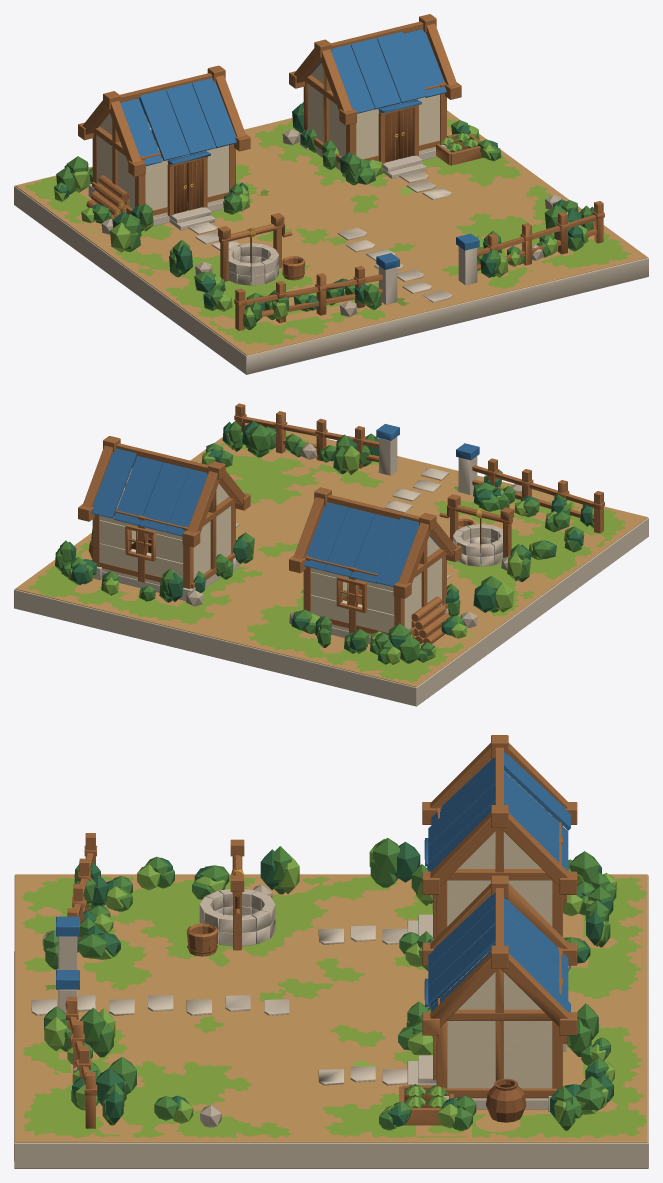
Rendered from city-2-lod0-af21565548e4.glb.
3 renders of one model, top to bottom at view 1: azimuth 30°, elevation 25°; view 2: azimuth 150°, elevation 25°; view 3: azimuth 270°, elevation 25°, orthographic. The views are drawn at different scales.
Visible parts, largest first — view 1: SM_CT2_V4_Batch_1.001, SM_CT2_V4_Batch_38.001, SM_CT2_V4_Batch_0.001, SM_CT2_V4_Batch_51.001, SM_CT2_V4_Batch_37.001, SM_CT2_V4_Batch_44.001, SM_CT2_V4_Batch_4.001, SM_CT2_V4_Batch_45.001, SM_CT2_V4_Batch_46.001, SM_CT2_V4_Batch_7.001, SM_CT2_V4_Batch_47.001; view 2: SM_CT2_V4_Batch_1.001, SM_CT2_V4_Batch_38.001, SM_CT2_V4_Batch_0.001, SM_CT2_V4_Batch_51.001, SM_CT2_V4_Batch_37.001, SM_CT2_V4_Batch_44.001, SM_CT2_V4_Batch_4.001, SM_CT2_V4_Batch_46.001, SM_CT2_V4_Batch_45.001, SM_CT2_V4_Batch_47.001; view 3: SM_CT2_V4_Batch_1.001, SM_CT2_V4_Batch_51.001, SM_CT2_V4_Batch_0.001, SM_CT2_V4_Batch_38.001, SM_CT2_V4_Batch_37.001, SM_CT2_V4_Batch_44.001, SM_CT2_V4_Batch_4.001, SM_CT2_V4_Batch_45.001, SM_CT2_V4_Batch_46.001, SM_CT2_V4_Batch_41.001, SM_CT2_V4_Batch_47.001.
Part boxes in pixels (left/top/right/bottom): SM_CT2_V4_Batch_1.001: left=15, top=110, right=647, bottom=355; SM_CT2_V4_Batch_38.001: left=78, top=14, right=604, bottom=330; SM_CT2_V4_Batch_0.001: left=14, top=132, right=648, bottom=374; SM_CT2_V4_Batch_51.001: left=25, top=115, right=631, bottom=345; SM_CT2_V4_Batch_37.001: left=120, top=29, right=479, bottom=269; SM_CT2_V4_Batch_44.001: left=54, top=102, right=593, bottom=330; SM_CT2_V4_Batch_4.001: left=97, top=63, right=439, bottom=218; SM_CT2_V4_Batch_45.001: left=54, top=126, right=593, bottom=324; SM_CT2_V4_Batch_46.001: left=58, top=104, right=593, bottom=310; SM_CT2_V4_Batch_7.001: left=115, top=108, right=468, bottom=278; SM_CT2_V4_Batch_47.001: left=101, top=129, right=561, bottom=317; SM_CT2_V4_Batch_1.001: left=15, top=423, right=647, bottom=687; SM_CT2_V4_Batch_38.001: left=78, top=403, right=604, bottom=643; SM_CT2_V4_Batch_0.001: left=14, top=437, right=648, bottom=706; SM_CT2_V4_Batch_51.001: left=28, top=432, right=625, bottom=682; SM_CT2_V4_Batch_37.001: left=91, top=424, right=479, bottom=586; SM_CT2_V4_Batch_44.001: left=55, top=421, right=593, bottom=664; SM_CT2_V4_Batch_4.001: left=99, top=468, right=442, bottom=636; SM_CT2_V4_Batch_46.001: left=68, top=421, right=592, bottom=651; SM_CT2_V4_Batch_45.001: left=57, top=425, right=593, bottom=664; SM_CT2_V4_Batch_47.001: left=186, top=443, right=521, bottom=627; SM_CT2_V4_Batch_1.001: left=15, top=874, right=647, bottom=1142; SM_CT2_V4_Batch_51.001: left=21, top=876, right=646, bottom=1138; SM_CT2_V4_Batch_0.001: left=14, top=875, right=648, bottom=1168; SM_CT2_V4_Batch_38.001: left=65, top=735, right=577, bottom=1128; SM_CT2_V4_Batch_37.001: left=56, top=752, right=570, bottom=1012; SM_CT2_V4_Batch_44.001: left=43, top=838, right=616, bottom=1130; SM_CT2_V4_Batch_4.001: left=447, top=770, right=552, bottom=1099; SM_CT2_V4_Batch_45.001: left=44, top=838, right=616, bottom=1128; SM_CT2_V4_Batch_46.001: left=44, top=841, right=613, bottom=1126; SM_CT2_V4_Batch_41.001: left=486, top=1078, right=526, bottom=1122; SM_CT2_V4_Batch_47.001: left=42, top=884, right=570, bottom=1127.
Size of the model in its own units: 10 by 3.32 by 10.
16 materials, 5 textured.
